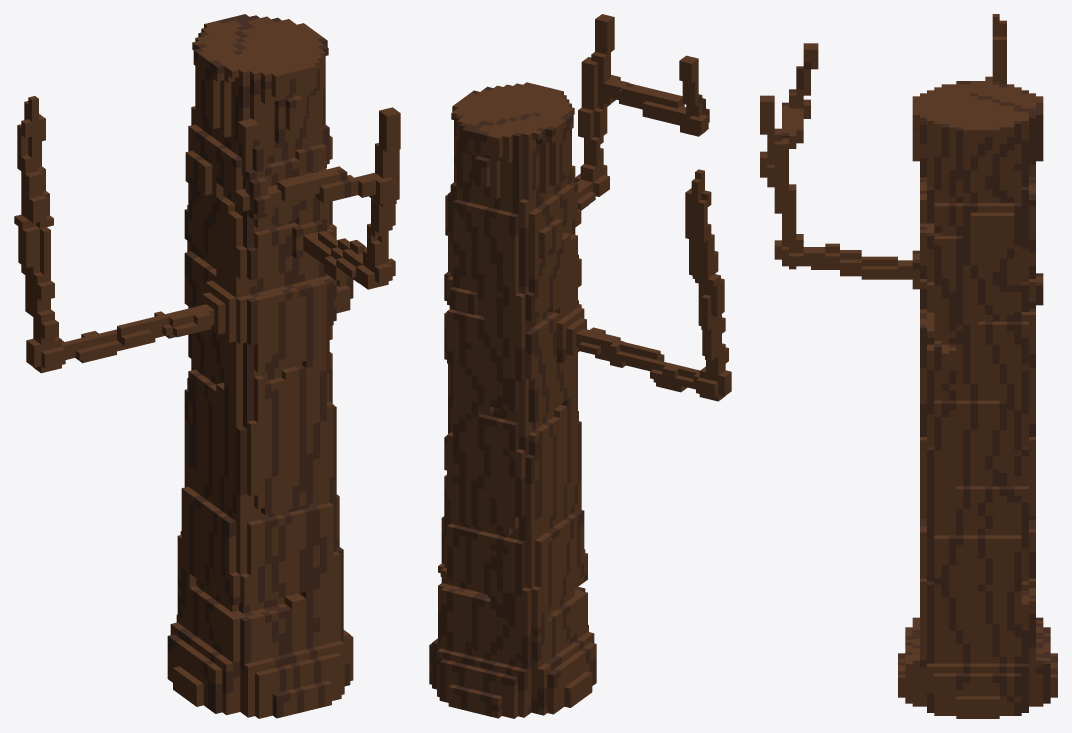
File: trunk_6.dae
3 renders of one model, left to right at view 1: azimuth 30°, elevation 25°; view 2: azimuth 150°, elevation 25°; view 3: azimuth 270°, elevation 25°, orthographic. The views are drawn at different scales.
Visible parts, largest first — view 1: trunk_6; view 2: trunk_6; view 3: trunk_6.
Boxes of the visible parts, box(x1,y1,x2,y2) form: trunk_6: box(14, 14, 400, 718); trunk_6: box(429, 14, 731, 718); trunk_6: box(760, 14, 1057, 718).
Size of the model in its own units: 4.5 by 4.1 by 9.
Materials: 1 (1 with a texture image).
